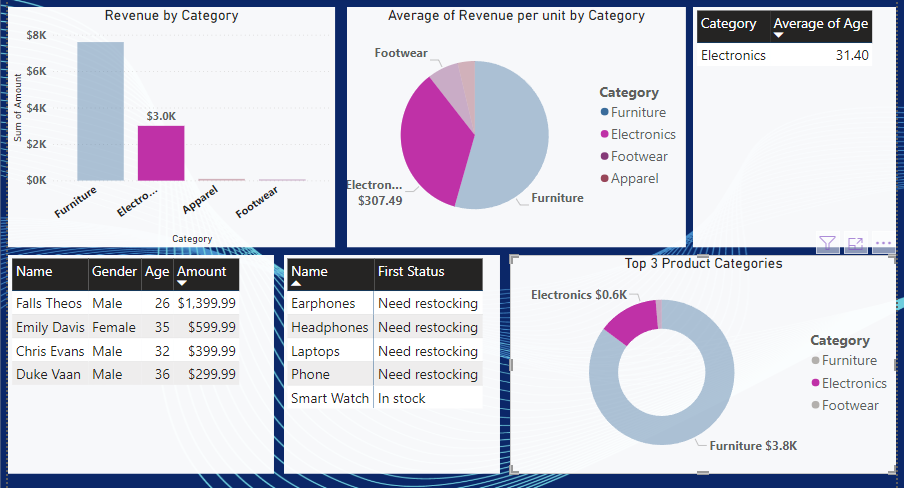

The page's visual inventory and layout, read from the dashboard file:
{"tool":"powerbi","page":{"name":"Page 1","canvas":[1280,720],"ordinal":0},"visuals":[{"type":"columnChart","title":"Revenue by Category","fields":{"Category":["Data Analyticsproducts_db.category"],"Y":["Data Analyticssales_db.amount"]},"box":[0,14.4,470.9,345.6],"z":0},{"type":"tableEx","fields":{"Values":["Data Analyticscustomers_db.name","Data Analyticscustomers_db.gender","Data Analyticscustomers_db.age","Data Analyticssales_db.amount"]},"box":[0,371.5,383,315.4],"z":1000},{"type":"pieChart","fields":{"Category":["Data Analyticsproducts_db.category"],"Y":["Data Analyticssales_db.Revenue per unit"]},"box":[488.2,14.4,488.2,345.6],"z":2000},{"type":"pivotTable","fields":{"Rows":["Data Analyticproducts_db.name"],"Values":["Data Analyticsinventory_db.Status"]},"box":[397.4,371.5,311,315.4],"z":3000},{"type":"tableEx","fields":{"Values":["Data Analyticsproducts_db.category","Data Analyticscustomers_db.Age"]},"box":[986.4,14.4,293.8,345.6],"z":4000},{"type":"donutChart","title":"Top 3 Product Categories","fields":{"Category":["Data Analyticsproducts_db.Category"],"Y":["Data Analyticssales_db.Amount"]},"box":[722.9,371.5,557.3,315.4],"z":4001}]}

Visuals, with their boxes in screenshot pixels (x1, y1, x2, y2):
"Revenue by Category" columnChart: (left=7, top=5, right=333, bottom=244)
tableEx - Data Analyticscustomers_db.name x Data Analyticscustomers_db.gender: (left=7, top=252, right=272, bottom=471)
pieChart - Data Analyticsproducts_db.category x Data Analyticssales_db.Revenue per unit: (left=345, top=5, right=683, bottom=244)
pivotTable - Data Analyticproducts_db.name x Data Analyticsinventory_db.Status: (left=282, top=252, right=497, bottom=471)
tableEx - Data Analyticsproducts_db.category x Data Analyticscustomers_db.Age: (left=690, top=5, right=893, bottom=244)
"Top 3 Product Categories" donutChart: (left=507, top=252, right=893, bottom=471)
